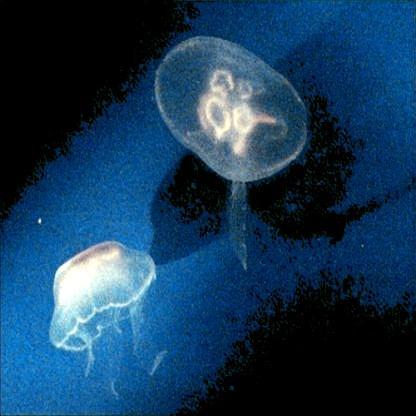Speckle: (151, 42, 307, 274), (49, 240, 169, 400)
